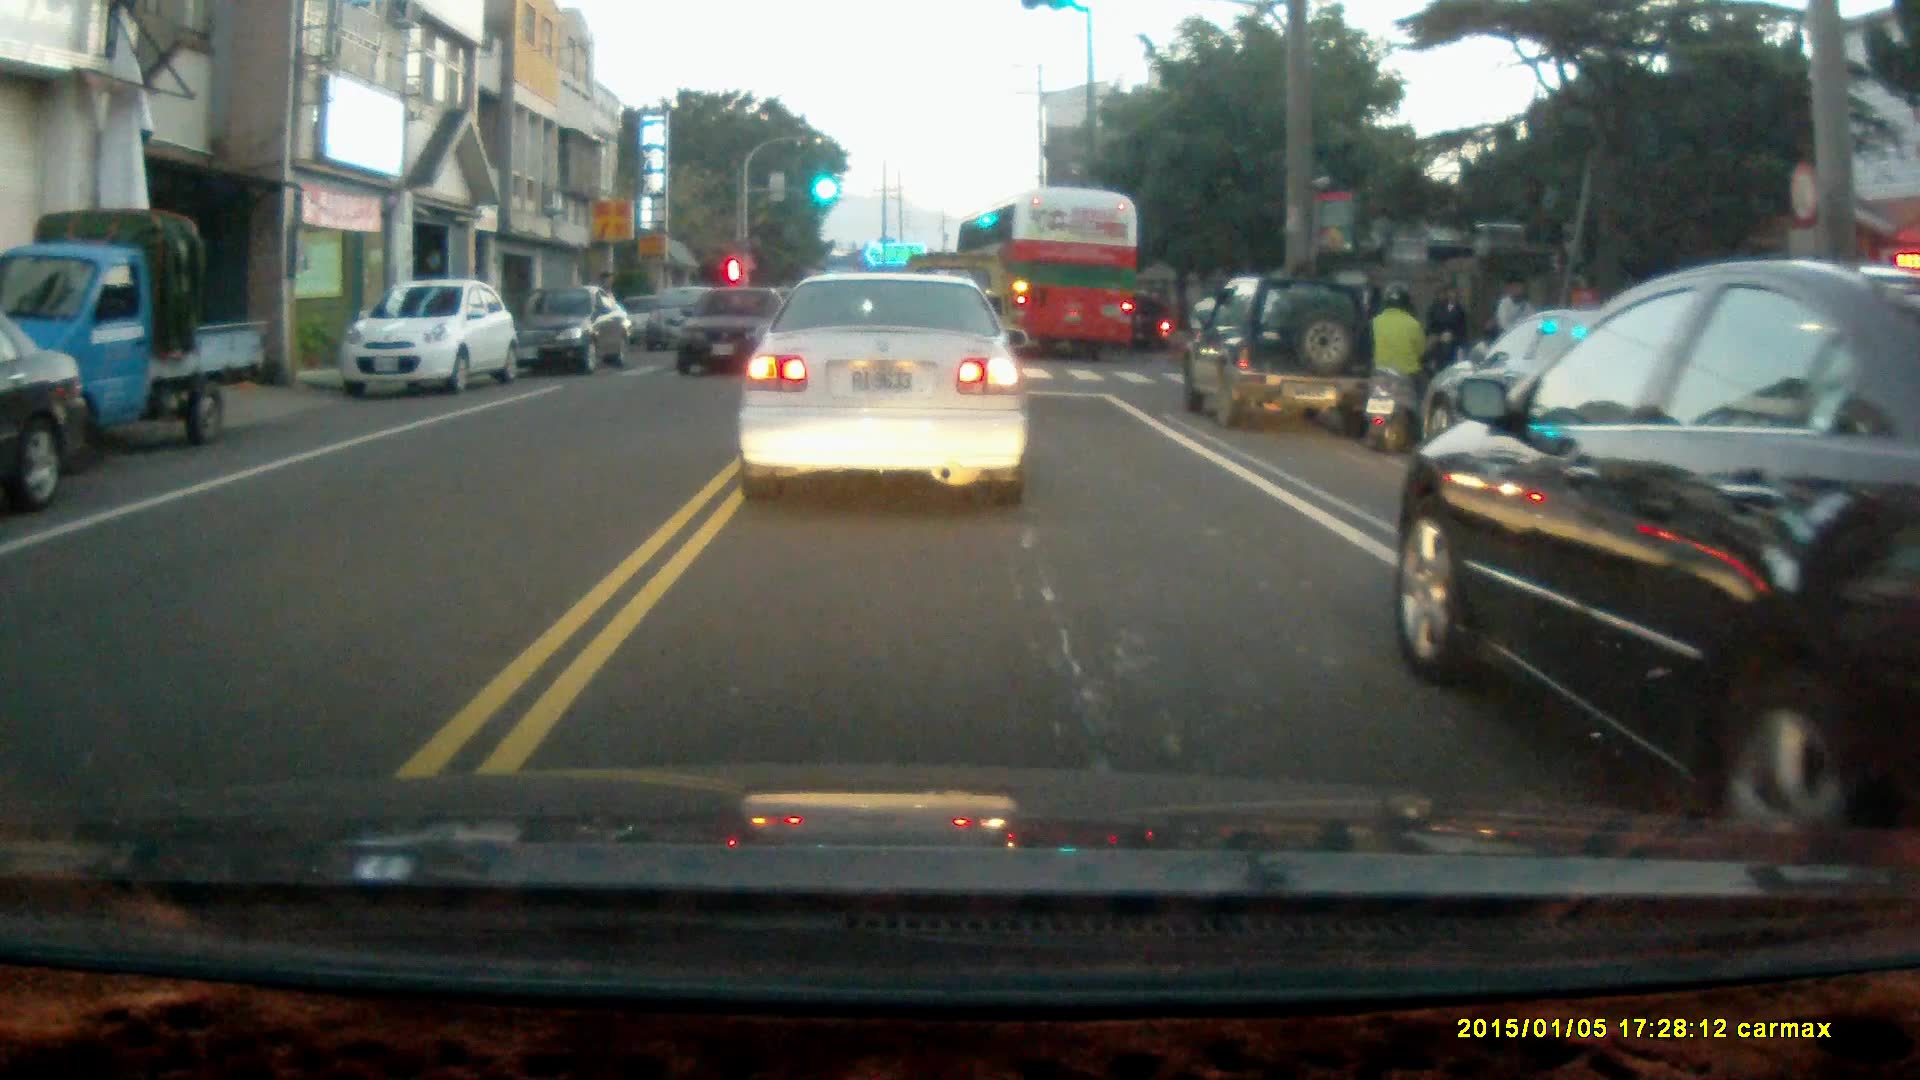pedestrian: (1492, 272, 1541, 384), (1425, 278, 1470, 399)
rider: (1361, 282, 1435, 454), (1115, 293, 1176, 351)
vehicle: (1400, 257, 1920, 833), (731, 268, 1032, 506), (1, 210, 273, 452), (1415, 306, 1742, 470), (1184, 275, 1387, 436), (961, 188, 1137, 360), (343, 283, 512, 399), (1, 308, 94, 515), (519, 284, 638, 376), (678, 286, 784, 384)
